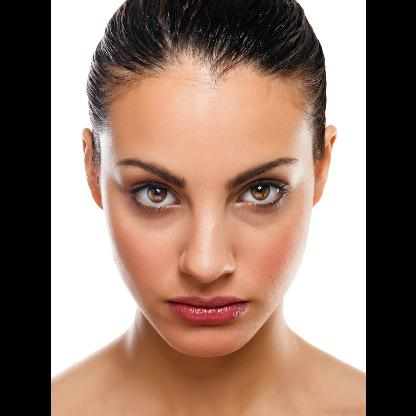Female: (80, 49, 336, 355)
